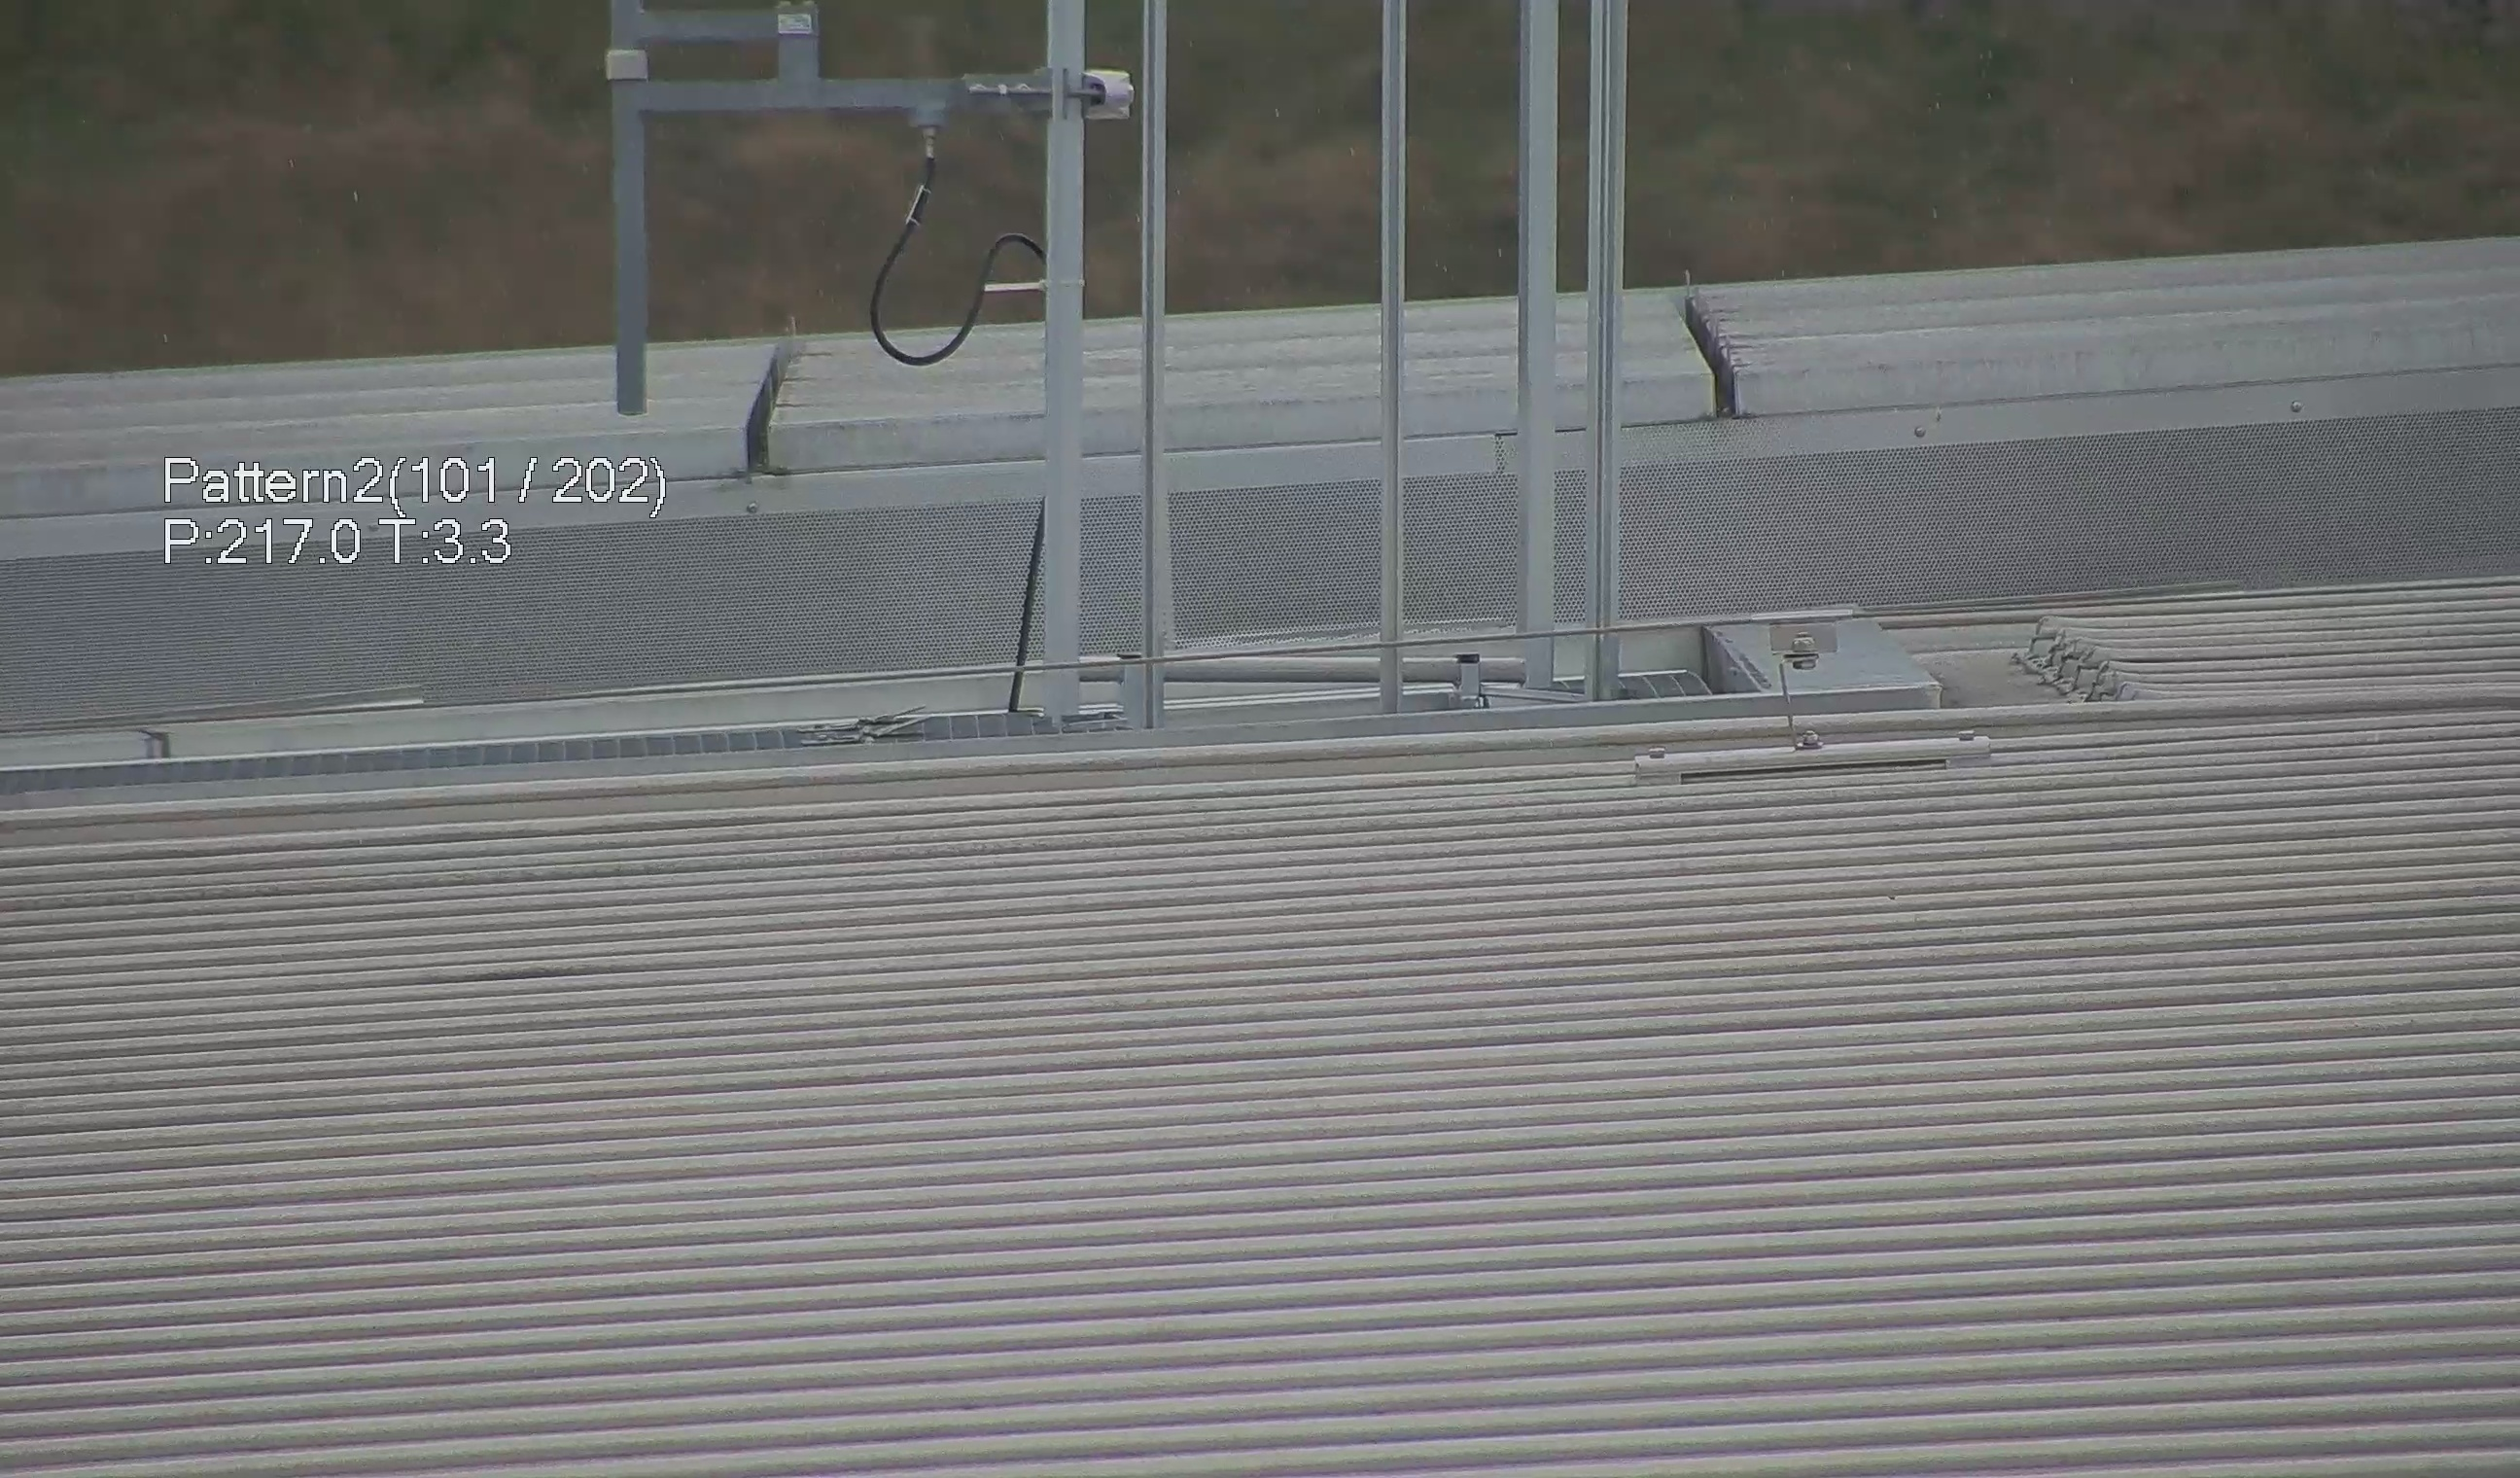Other: (1655, 257, 1769, 428)
